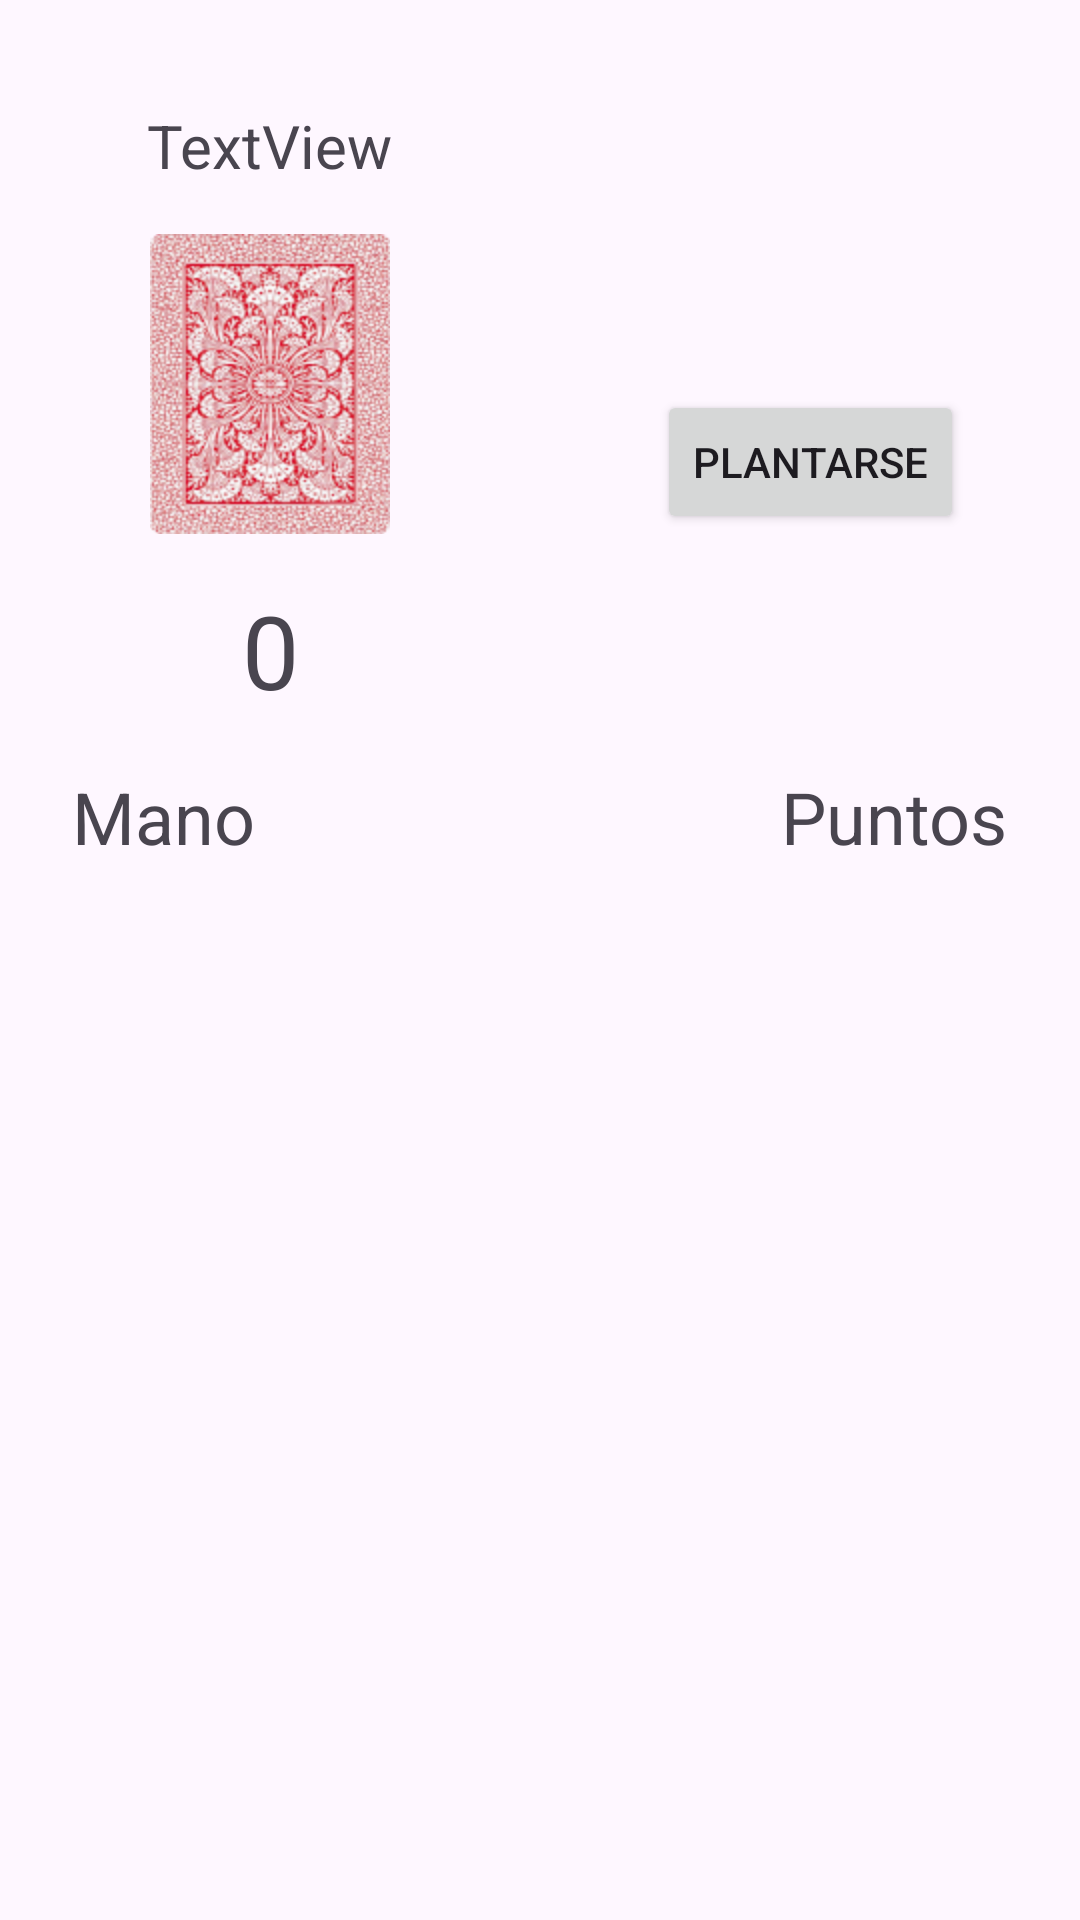

Screen size 1080*1920. Icon name, then its box in pixels as (x1, y1, x2, y2):
trasera: (150, 234, 390, 534)
